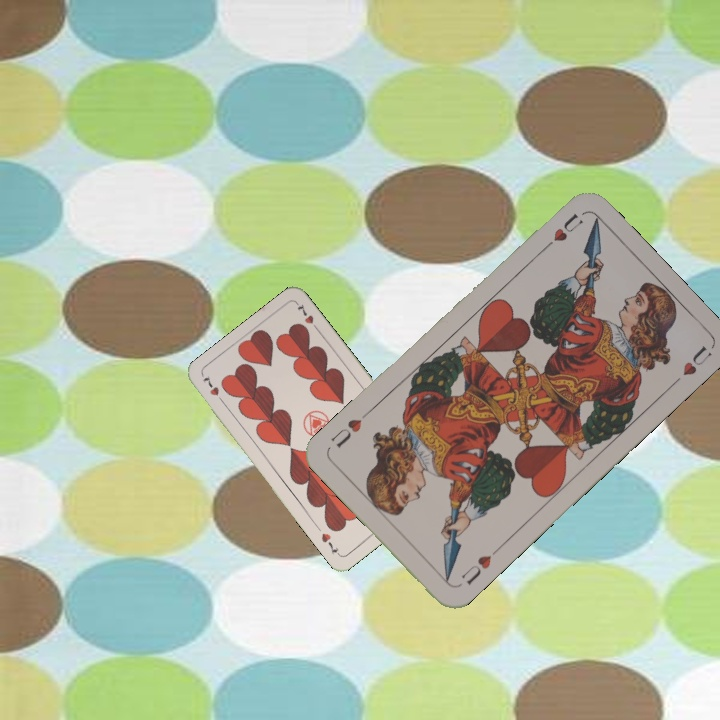H7: (199, 371, 227, 407)
HU: (538, 209, 585, 254), (457, 550, 494, 588)
